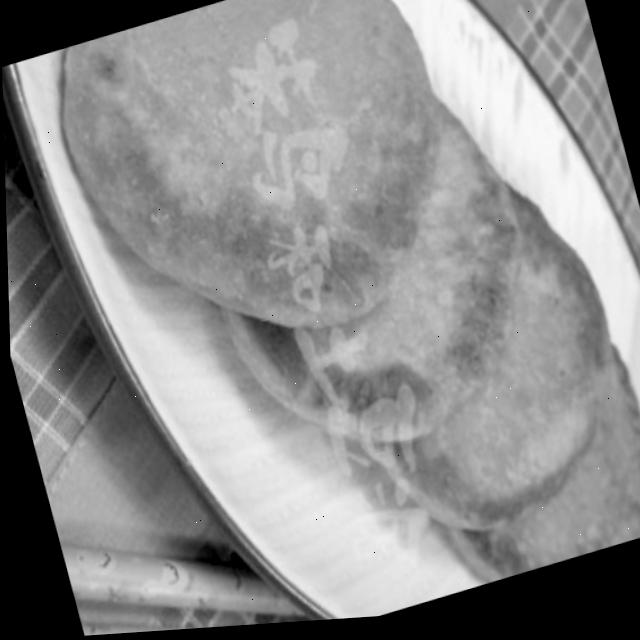炸货点心: (6, 0, 640, 640)
蛋糕甜品: (6, 0, 640, 640)
